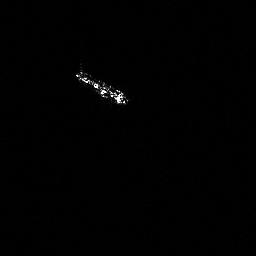ship: (72, 67, 133, 108)
